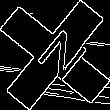N_SW: (24, 23, 86, 87)
